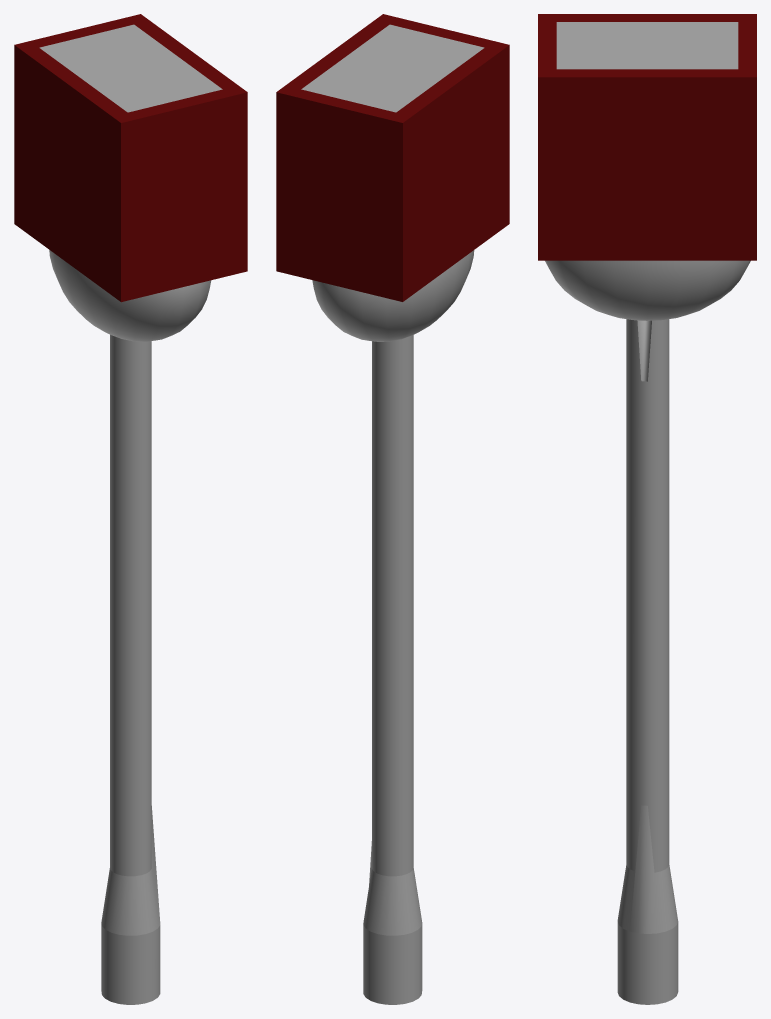
File: PlayerTankArmV1.fbx
The picture shows the model from 3 angles, left to right: view 1: azimuth 30°, elevation 25°; view 2: azimuth 150°, elevation 25°; view 3: azimuth 270°, elevation 25°; orthographic projection. The views are drawn at different scales.
Parts seen in each view (by area): view 1: polySurface7, pCylinder1, pSphere1; view 2: polySurface7, pCylinder1, pSphere1; view 3: polySurface7, pCylinder1, pSphere1.
Boxes of the visible parts, left/top/right/bottom form: polySurface7: left=14, top=14, right=247, bottom=302; pCylinder1: left=101, top=334, right=160, bottom=1004; pSphere1: left=49, top=250, right=211, bottom=341; polySurface7: left=276, top=14, right=509, bottom=301; pCylinder1: left=363, top=335, right=422, bottom=1004; pSphere1: left=312, top=250, right=474, bottom=341; polySurface7: left=538, top=14, right=756, bottom=260; pCylinder1: left=617, top=319, right=678, bottom=1004; pSphere1: left=545, top=260, right=750, bottom=320.
Size of the model in its own units: 0.6559 by 4.58 by 0.9594.
